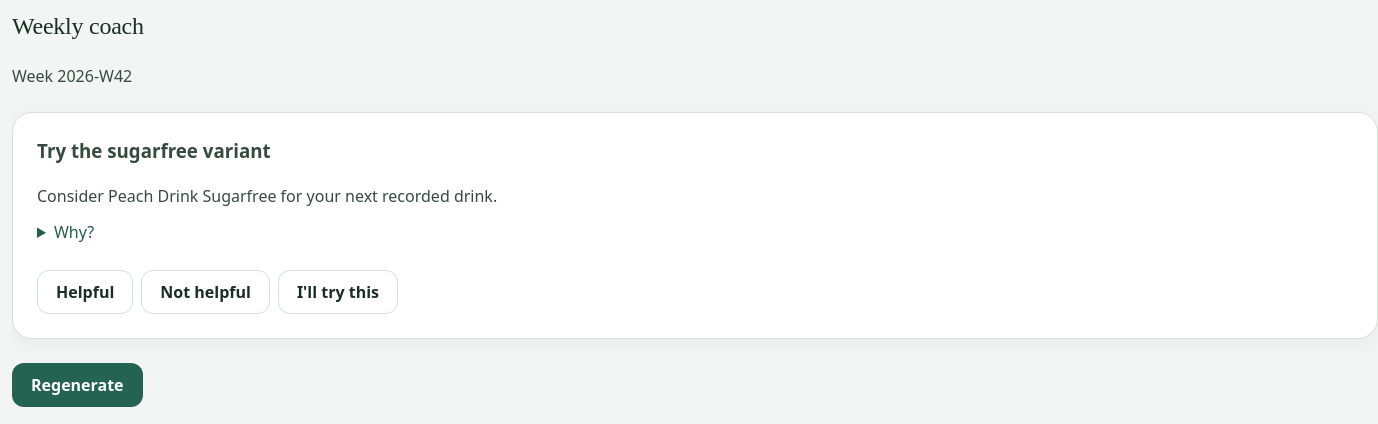
Test case: regenerate_409_hides_button_and_preserves_suggestions
What coordinates should you click on to do the following:
click the button "Regenerate"
I would click on:
 (77, 385)
Its box is left=12, top=363, right=143, bottom=407.
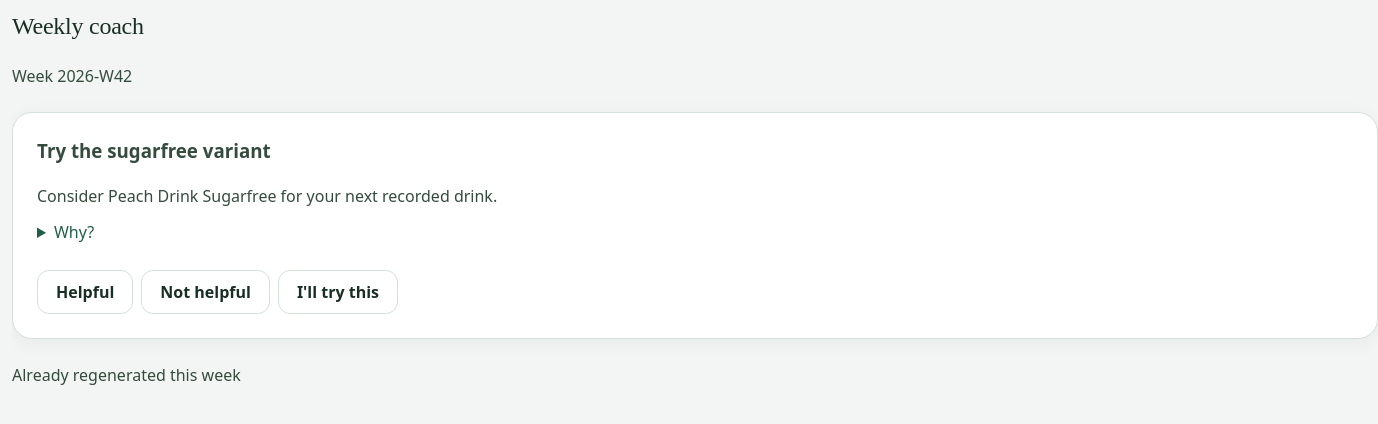
Check: the text "Consider Peach Drink Sugarfree for your next recorded drink." is shown, box left=37, top=185, right=497, bottom=207
Check: the text "Already regenerated this week" is shown, box left=12, top=364, right=241, bottom=386
